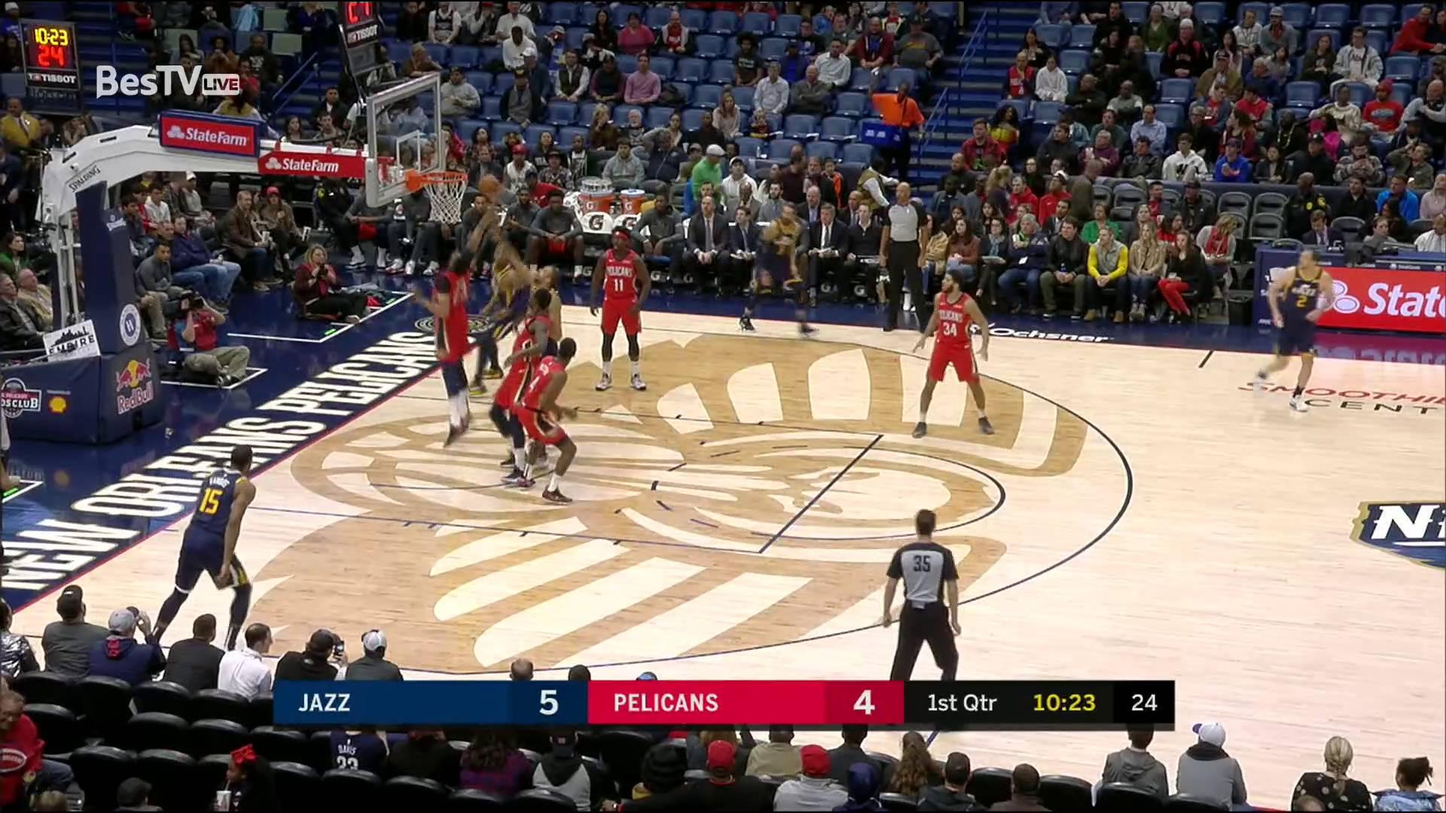basketball: (476, 174, 500, 198)
